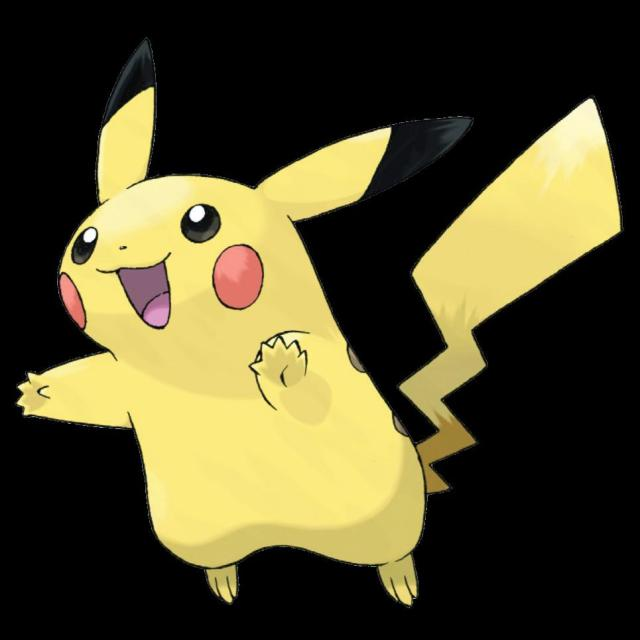pikachu: (18, 39, 621, 607)
